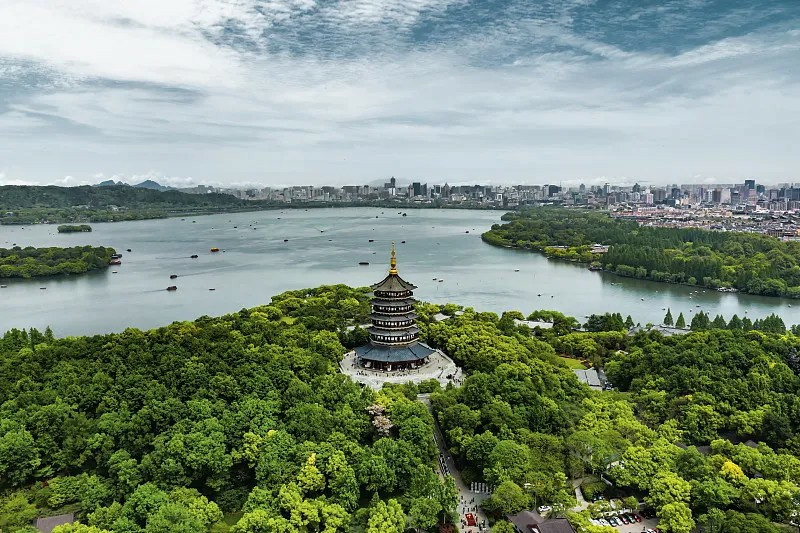Leifeng: (352, 240, 437, 372)
